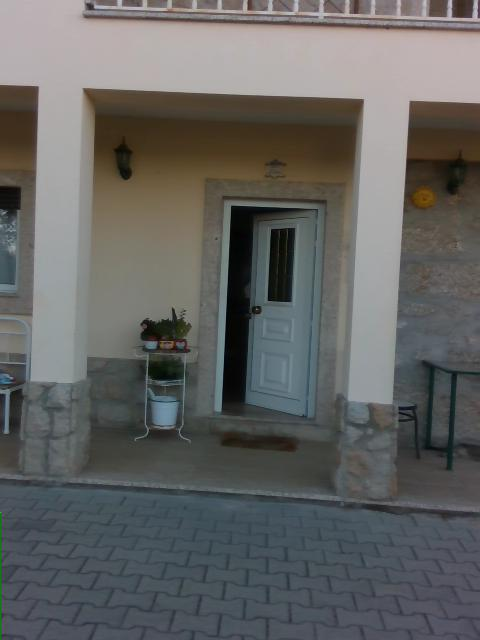semi_door: (212, 192, 327, 421)
